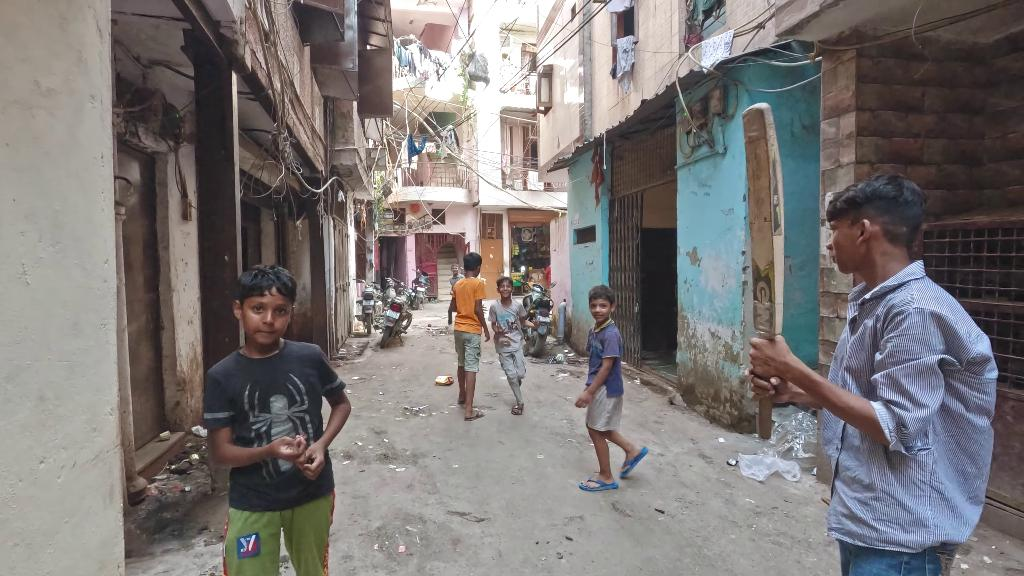garbage: (735, 408, 820, 487), (549, 345, 572, 369), (433, 369, 455, 389)
